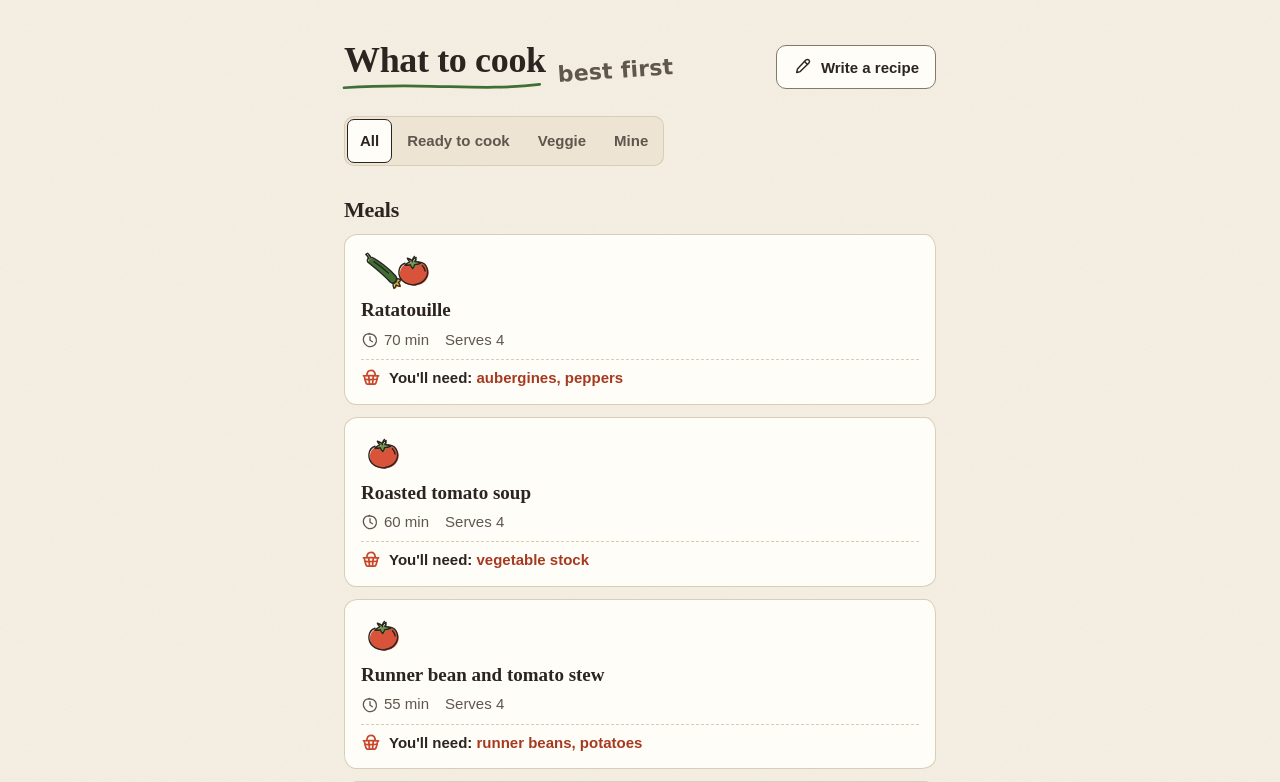
Test: Recipe view › works for a recipe of yours that uses nothing from the patch
Click the radio button labelled "Mine". click: click(631, 141)
box: [601,119,661,163]
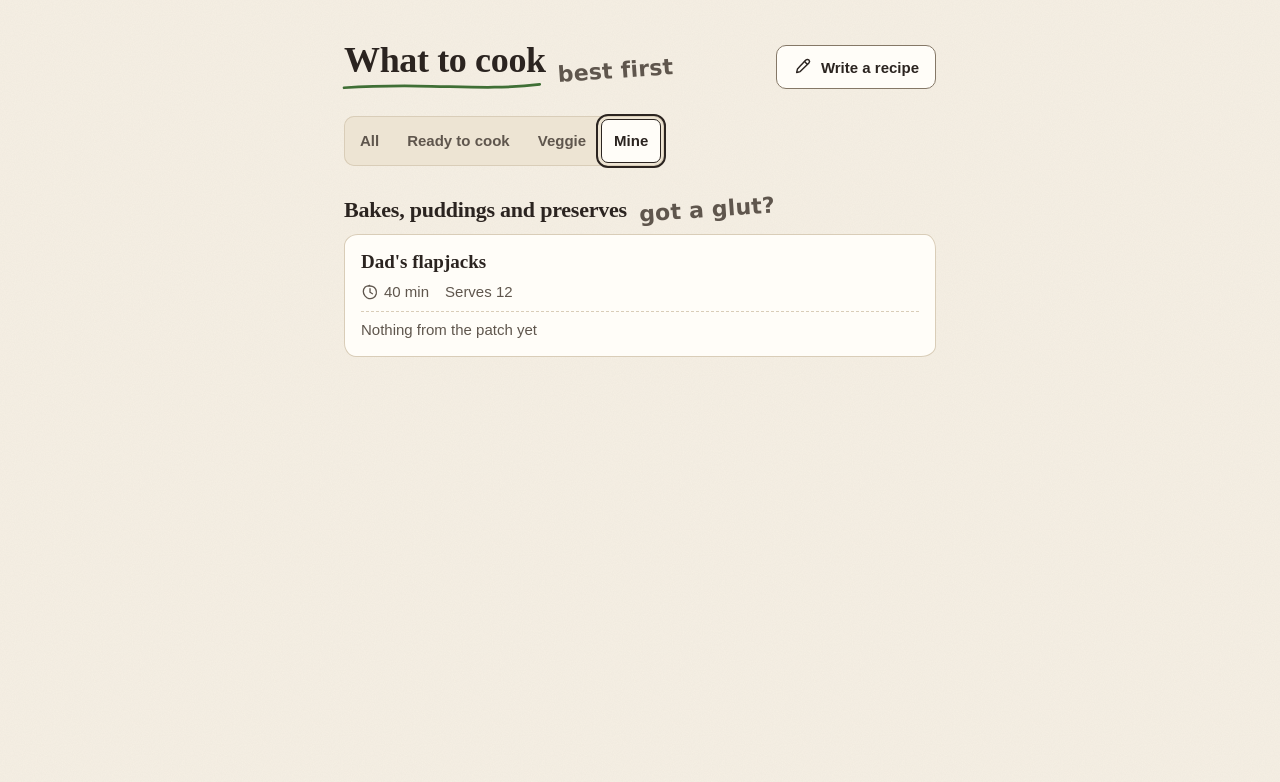
Click the button "Dad's flapjacks". click: click(424, 262)
box: [344,234,936,357]
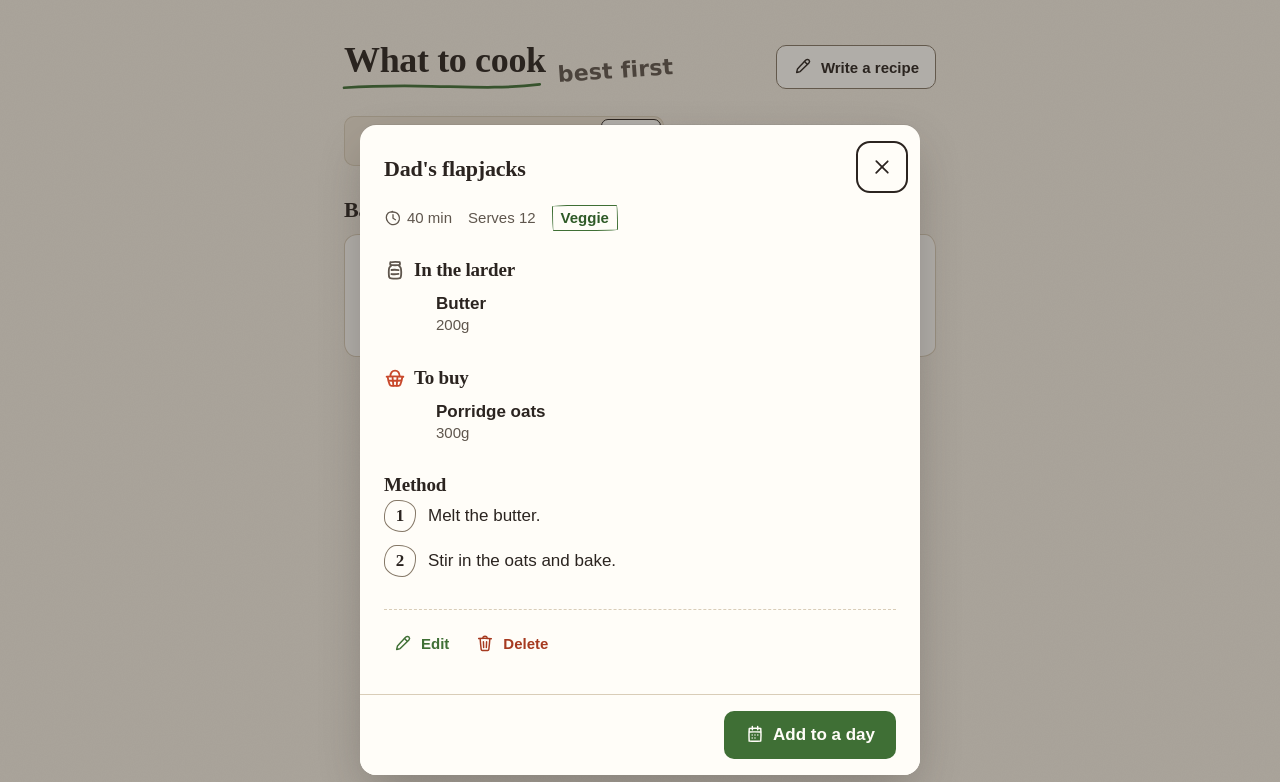
Check: the text "Butter" is shown, box [436,294,486,313]
Check: the text "Porridge oats" is shown, box [436,402,546,420]
Check: the button "Edit" is shown, box [384,622,458,666]
